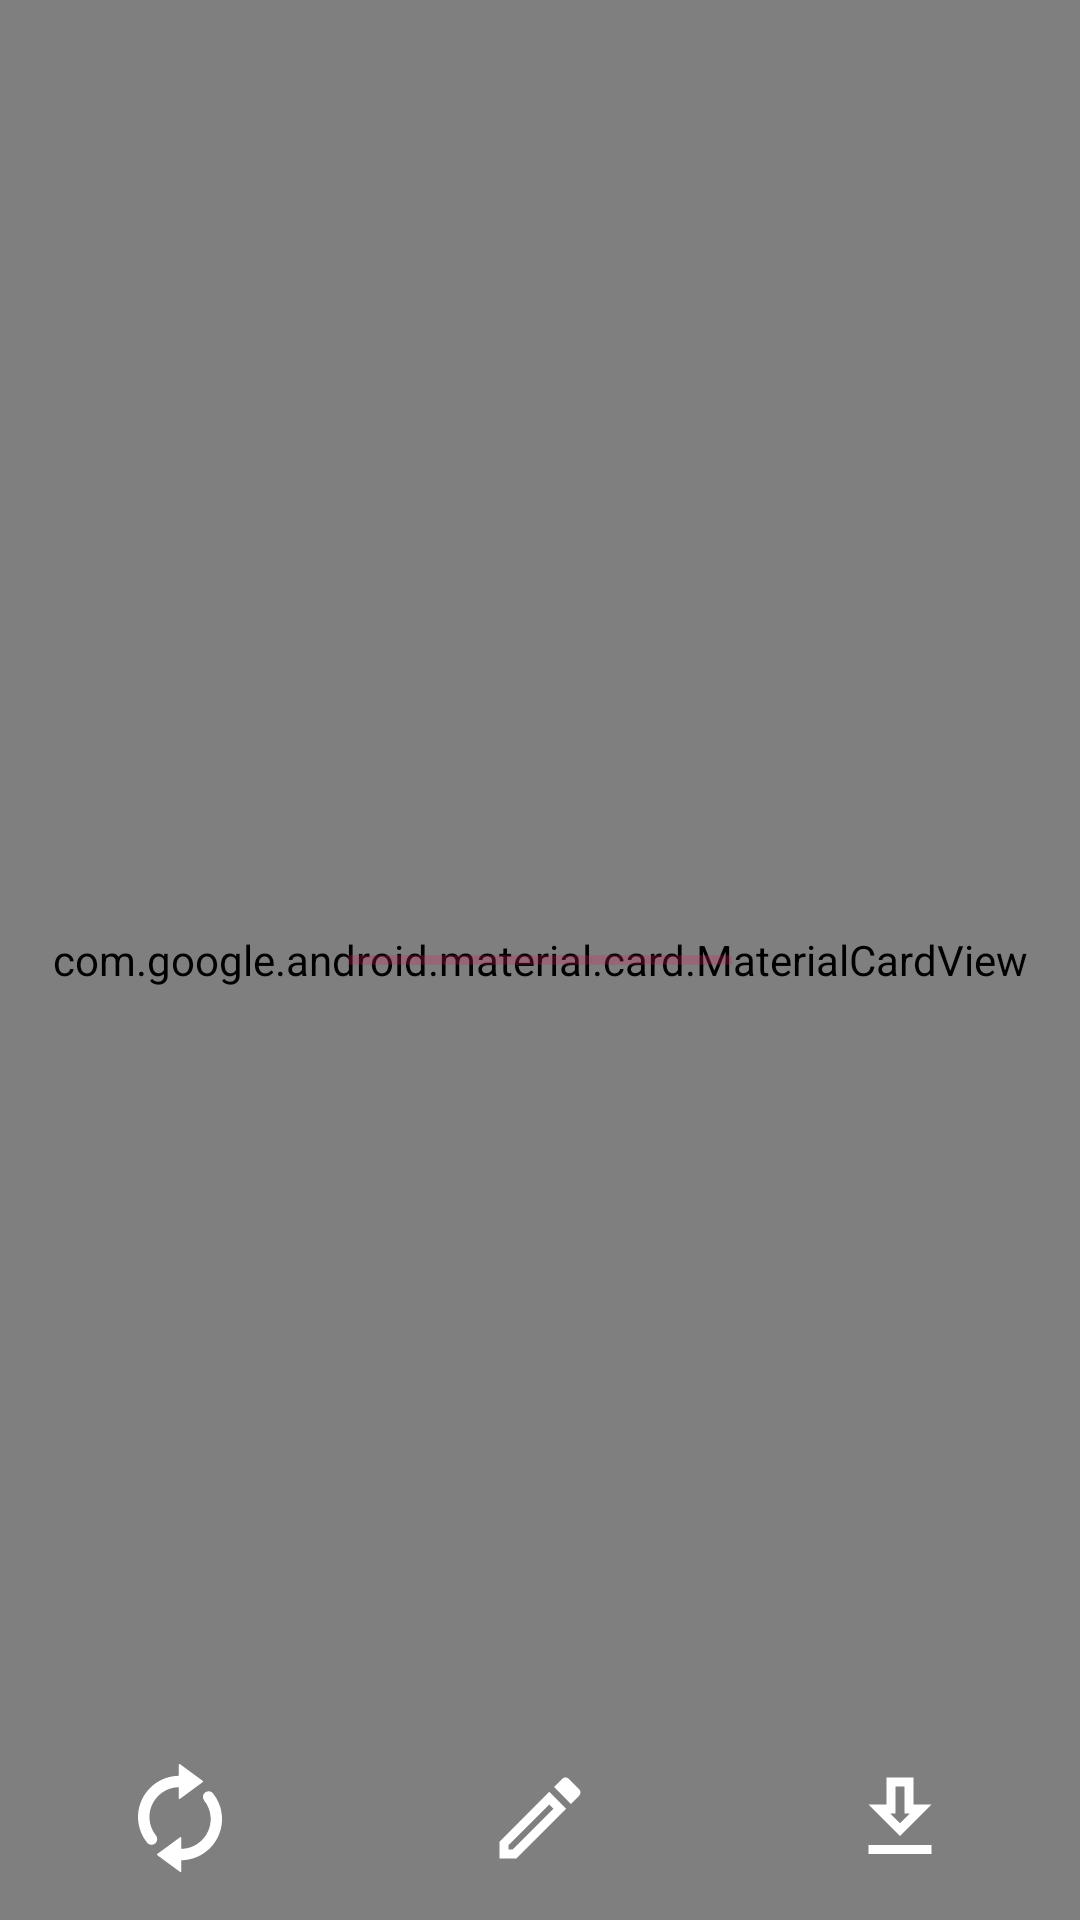

Screen size 1080 x 1920. Icon name, then its center in pixels as (x=x, y=y):
download: (x=900, y=1815)
edit: (x=540, y=1818)
refreshing: (x=180, y=1818)
